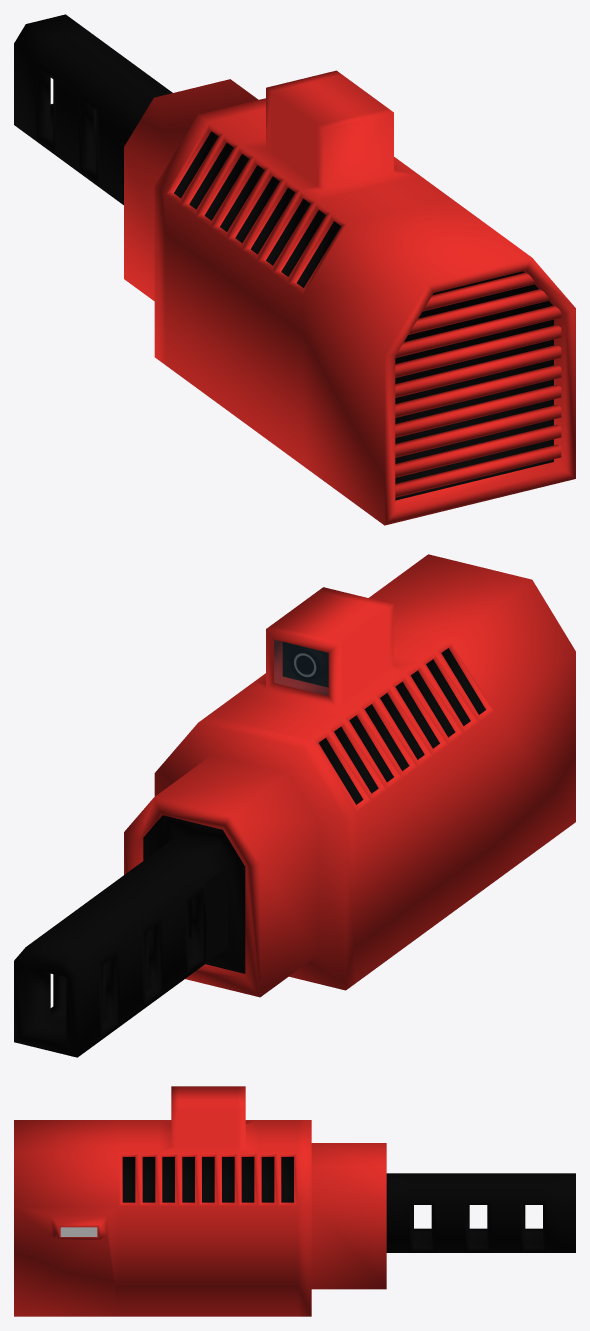
File: turret.glb
3 renders of one model, top to bottom at view 1: azimuth 30°, elevation 25°; view 2: azimuth 150°, elevation 25°; view 3: azimuth 270°, elevation 25°, orthographic. The views are drawn at different scales.
Visible parts, largest first — view 1: Cube, Cube.001; view 2: Cube; view 3: Cube.
Boxes of the visible parts, box(x1,y1,x2,y2) form: Cube: box(14, 14, 575, 525); Cube.001: box(395, 272, 561, 497); Cube: box(14, 554, 575, 1057); Cube: box(14, 1086, 575, 1316).
Size of the model in its own units: 0.885 by 1.17 by 3.14.
